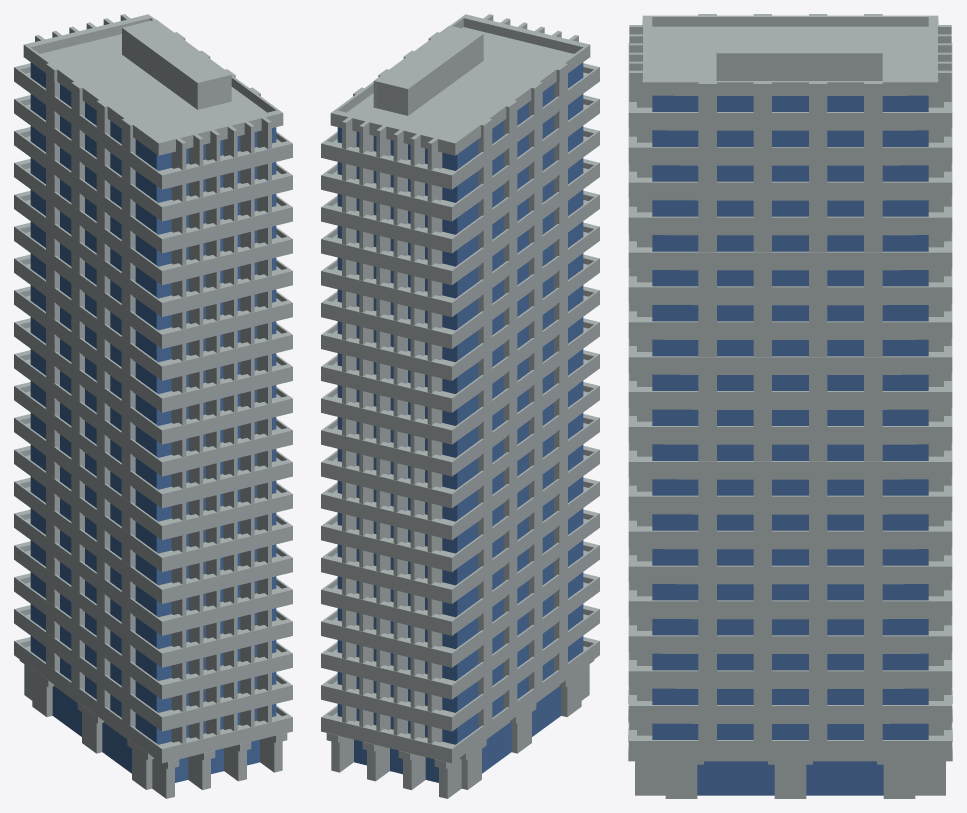
The model's file is bill_002.fbx.
The picture shows the model from 3 angles, left to right: view 1: azimuth 30°, elevation 25°; view 2: azimuth 150°, elevation 25°; view 3: azimuth 270°, elevation 25°; orthographic projection. The views are drawn at different scales.
Parts seen in each view (by area): view 1: building.009; view 2: building.009; view 3: building.009.
Boxes of the visible parts, x1,y1,x2,y2 form: building.009: (14,14,292,798); building.009: (321,14,599,798); building.009: (628,14,952,798).
Bounding box in the file's own units: 2043 × 10000 × 4000.
